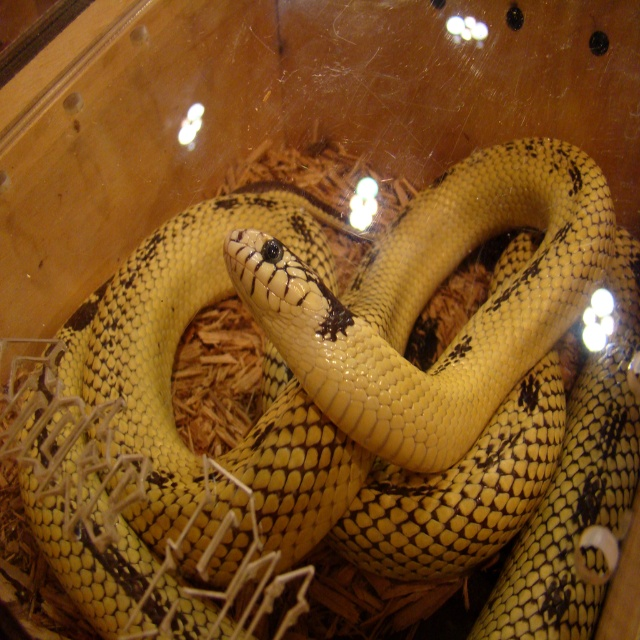Snake: (20, 138, 640, 640)
